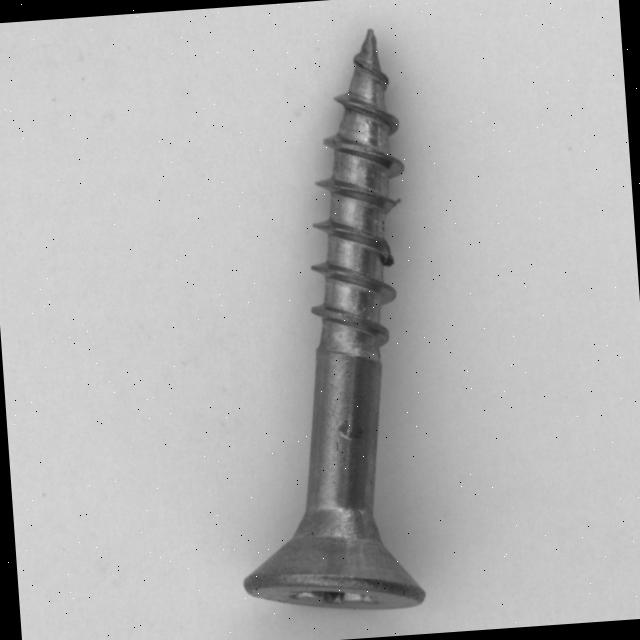thread_side: (371, 192, 413, 266)
